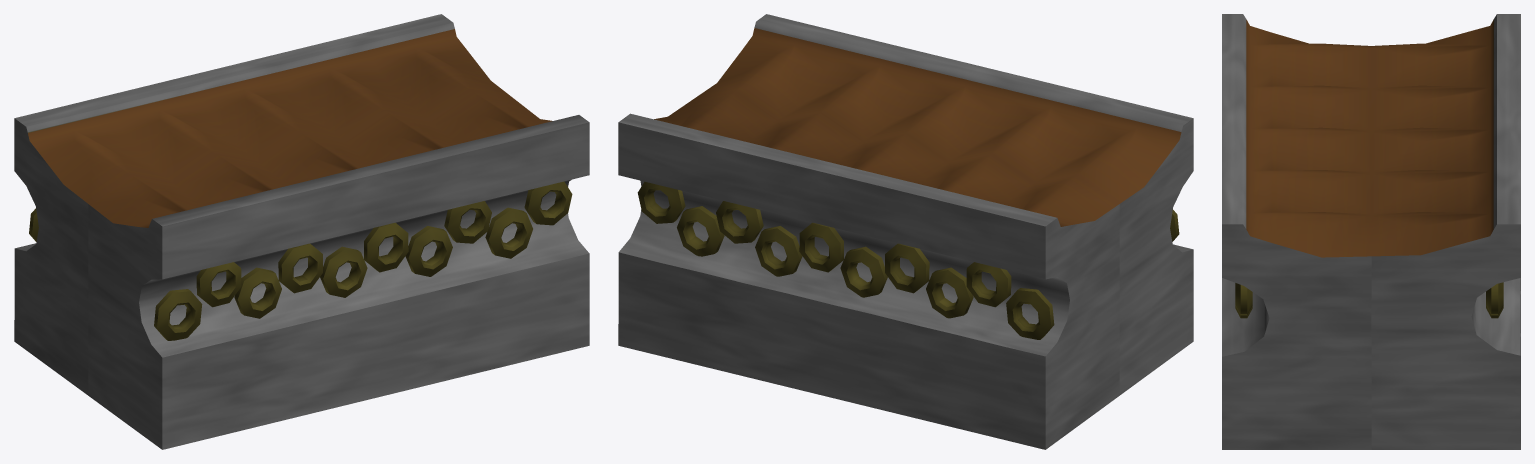
The model's file is FM-001-ConveyerBelt-Middle.fbx.
3 renders of one model, left to right at view 1: azimuth 30°, elevation 25°; view 2: azimuth 150°, elevation 25°; view 3: azimuth 270°, elevation 25°, orthographic.
Visible parts, largest first — view 1: FM-001-ConveyerBelt-Middle; view 2: FM-001-ConveyerBelt-Middle; view 3: FM-001-ConveyerBelt-Middle.
Boxes of the visible parts, x1,y1,x2,y2 form: FM-001-ConveyerBelt-Middle: (14, 14, 589, 449); FM-001-ConveyerBelt-Middle: (618, 14, 1193, 449); FM-001-ConveyerBelt-Middle: (1222, 14, 1520, 449).
Bounding box in the file's own units: 200 × 120 × 100.
